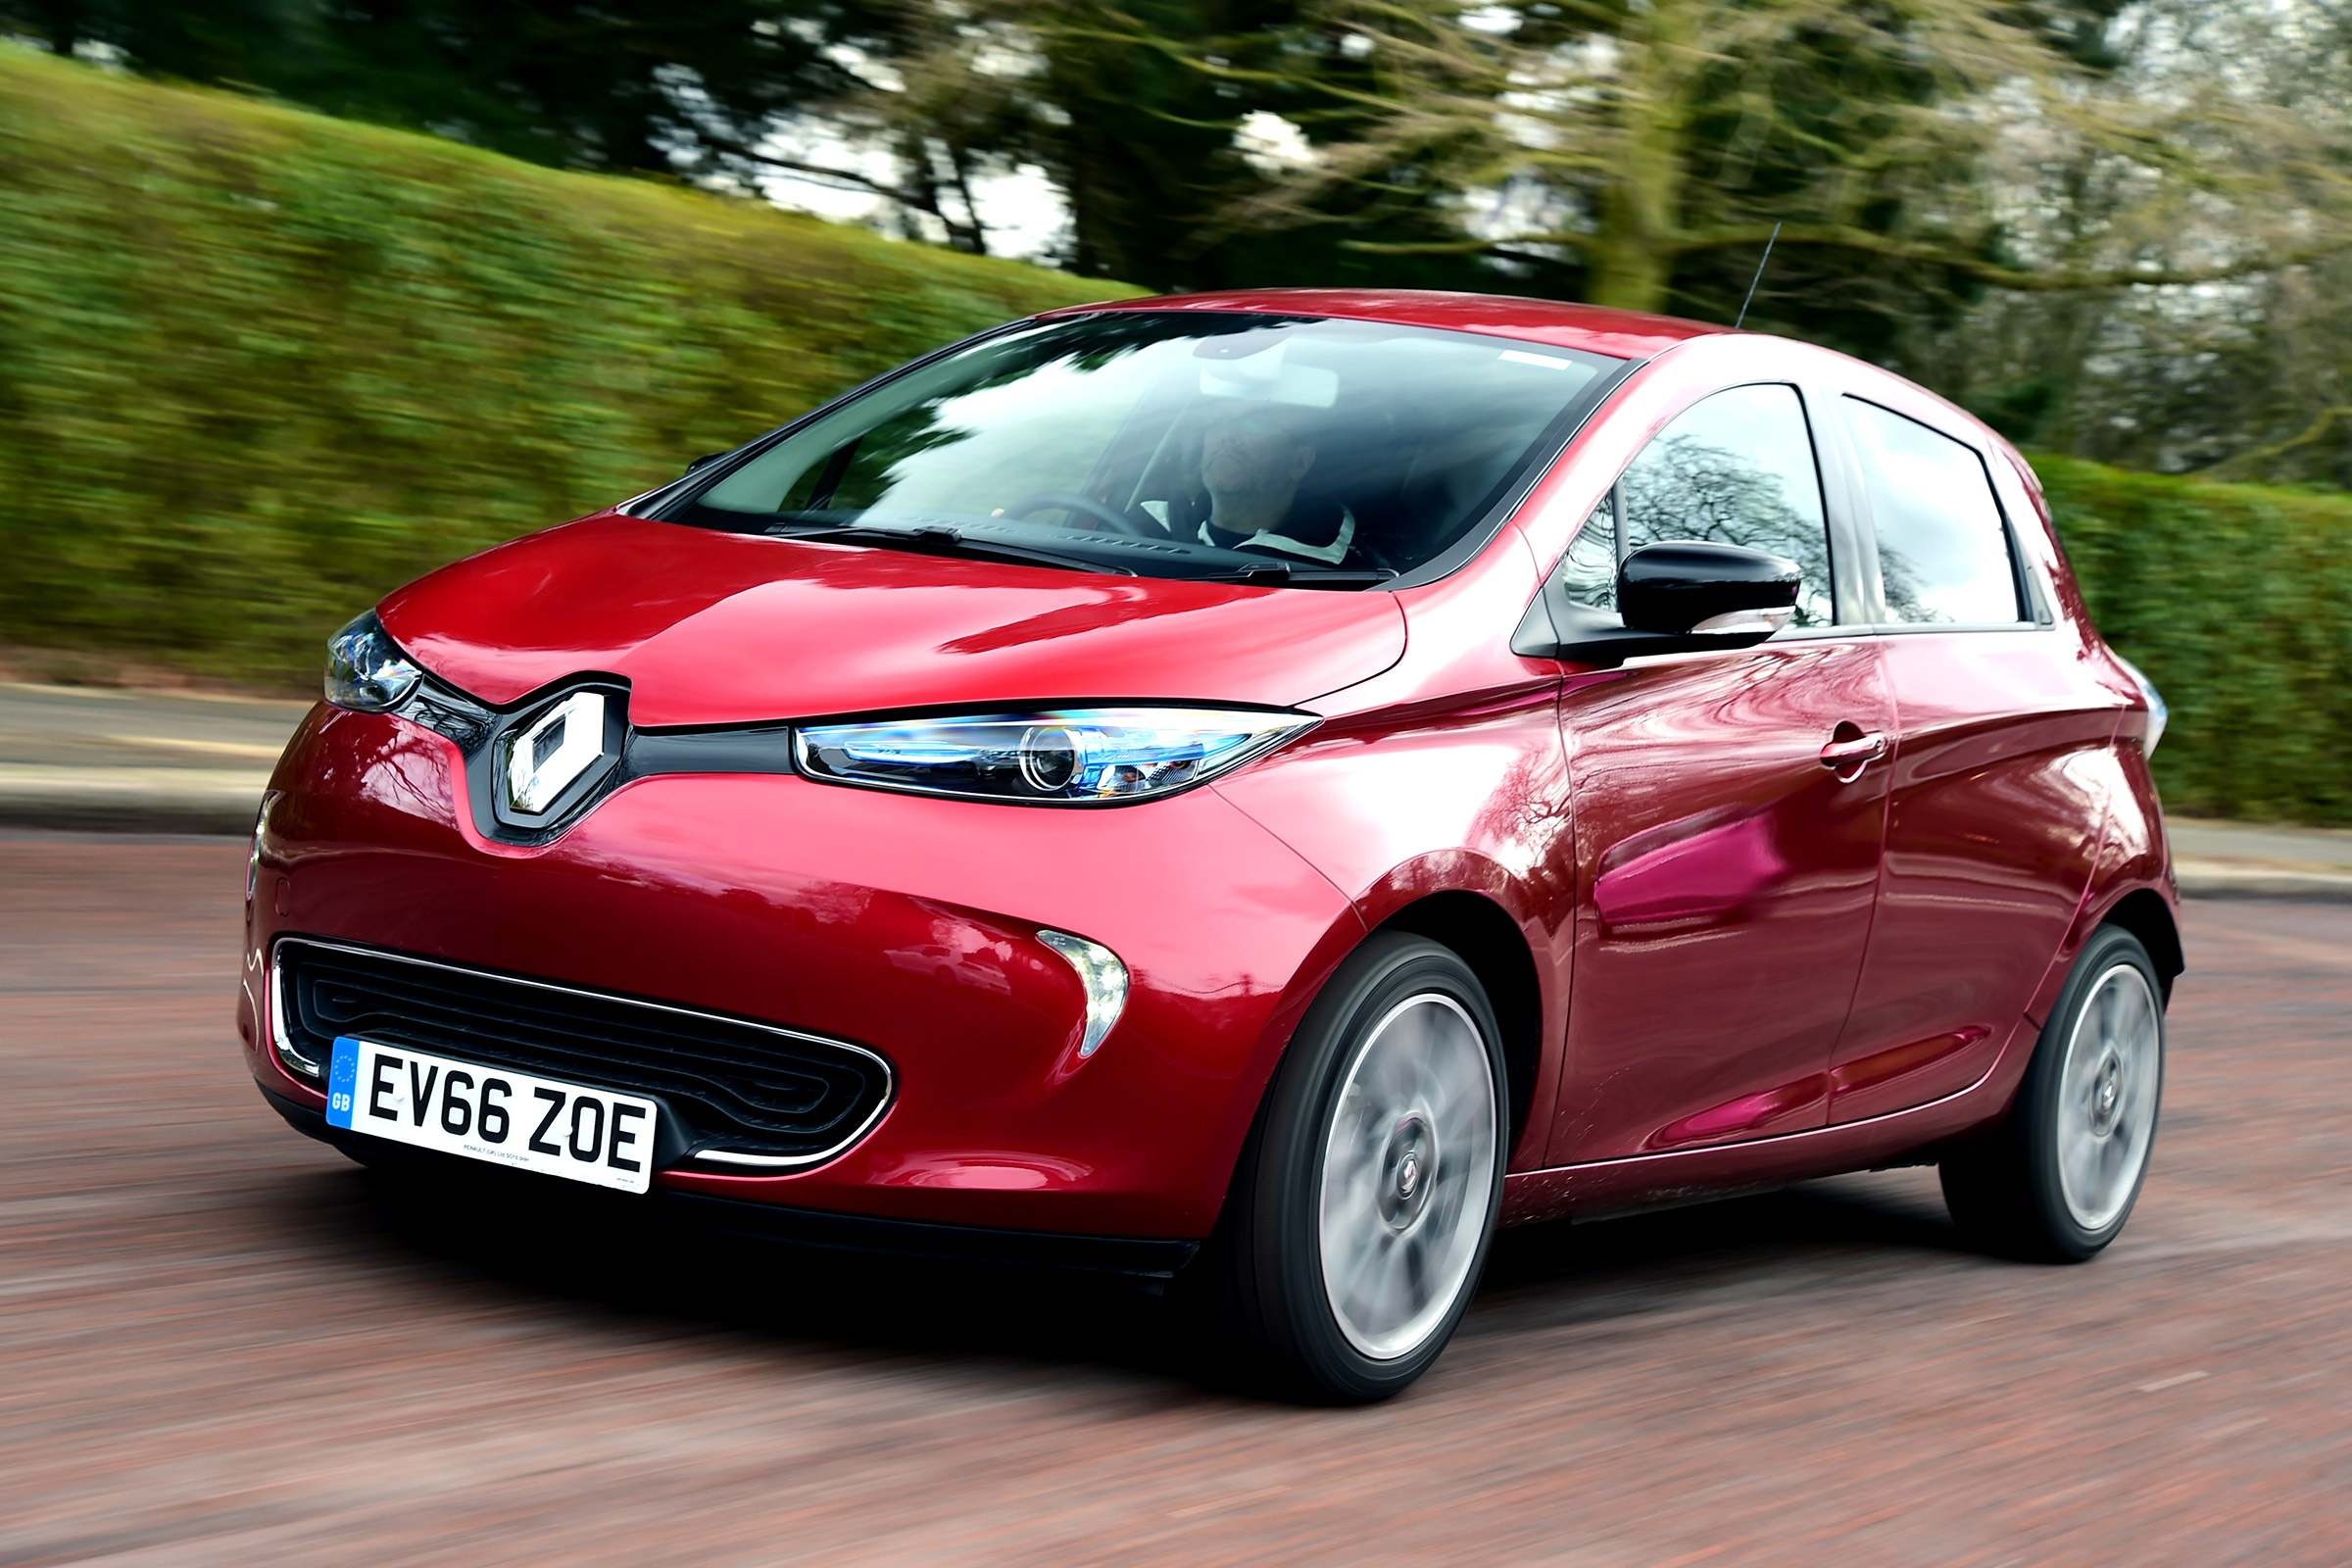headlight: (772, 675, 1291, 805), (306, 579, 457, 691)
wheel: (1144, 920, 1529, 1414), (1932, 884, 2173, 1255)
